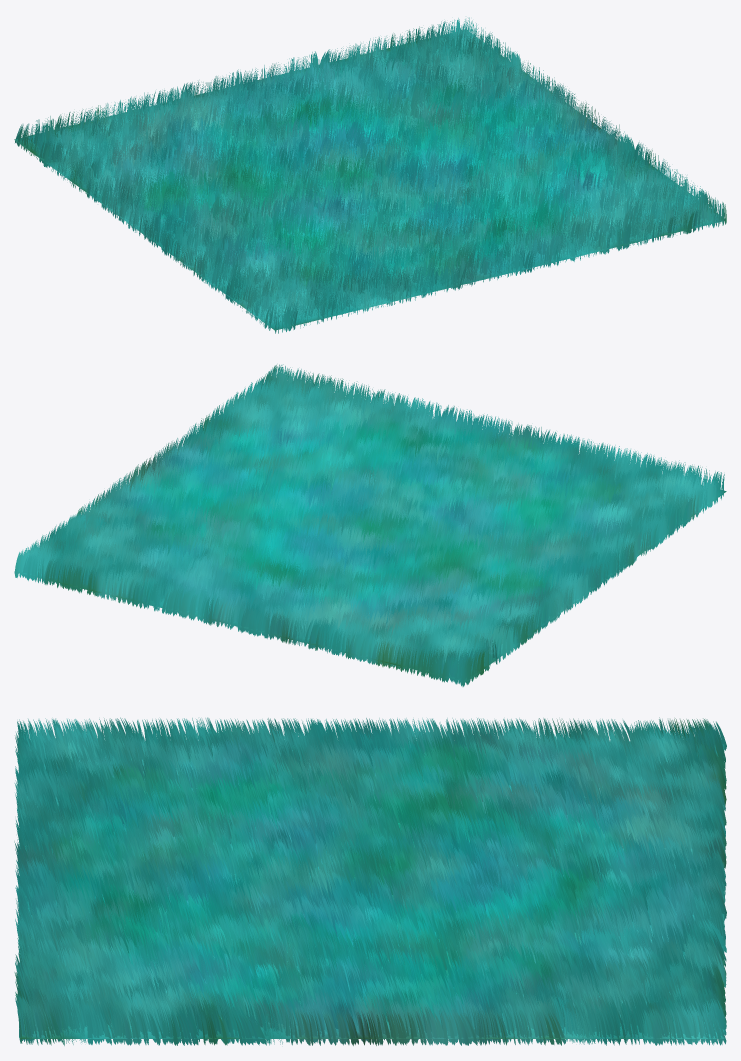
The model's file is grass_square_night.glb.
The picture shows the model from 3 angles, top to bottom: view 1: azimuth 30°, elevation 25°; view 2: azimuth 150°, elevation 25°; view 3: azimuth 270°, elevation 25°; orthographic projection. The views are drawn at different scales.
Visible parts, largest first — view 1: grass.001, Plane; view 2: grass.001, Plane; view 3: grass.001, Plane.
Part boxes in pixels (x1=…): grass.001: x1=15, y1=17, x2=726, y2=333; Plane: x1=14, y1=29, x2=726, y2=330; grass.001: x1=14, y1=364, x2=724, y2=686; Plane: x1=14, y1=399, x2=726, y2=682; grass.001: x1=14, y1=717, x2=726, y2=1045; Plane: x1=19, y1=741, x2=724, y2=1038.
Size of the model in its own units: 21.73 by 1.08 by 21.88.
1 material, 1 textured.
